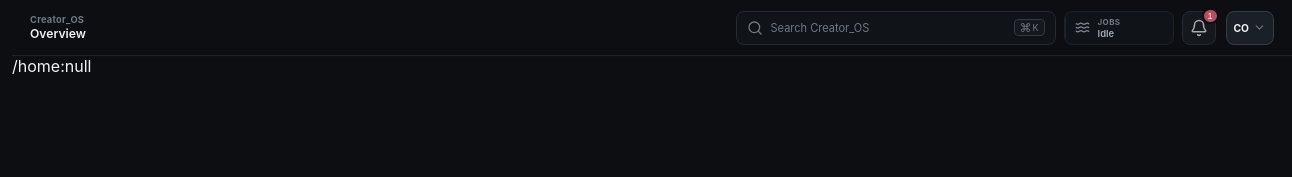
it: Developer Agent notifications › opens a persisted completion notification and navigates back to its report
Click the button named "Notifications (1 unread)".
click(1198, 28)  # box [1182,10,1216,44]
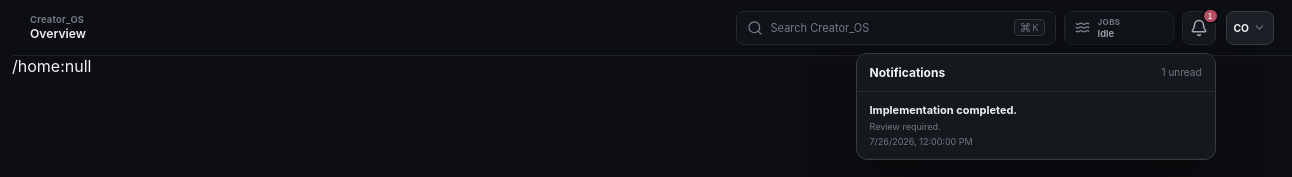
Result: the element named "Developer Agent notifications" shows "Implementation completed."
Click the button "Implementation completed".
click(943, 110)  # box [856,92,1214,158]
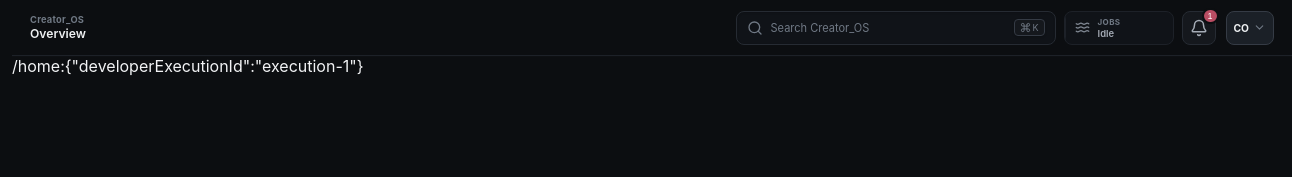
Expected: the text with test id "location" shows "/home:", [12,56,364,76]
Result: the text with test id "location" shows "developerExecutionId" at [65,56,364,76]
